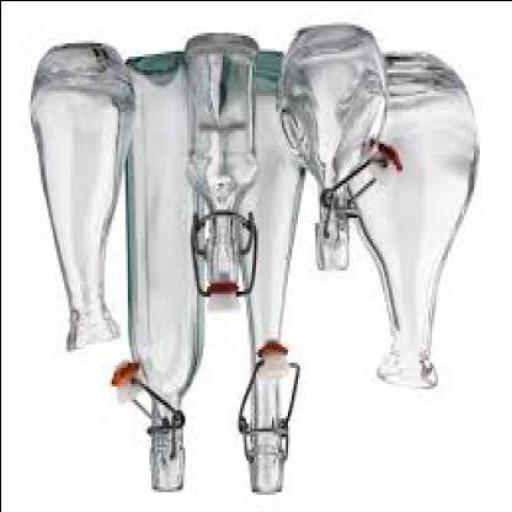glass: (348, 55, 478, 388), (123, 56, 206, 494), (234, 53, 308, 496), (31, 45, 135, 354), (279, 28, 386, 272), (186, 34, 257, 290)
plastic: (113, 362, 148, 406), (366, 145, 403, 185), (257, 343, 293, 383), (208, 290, 240, 314)
